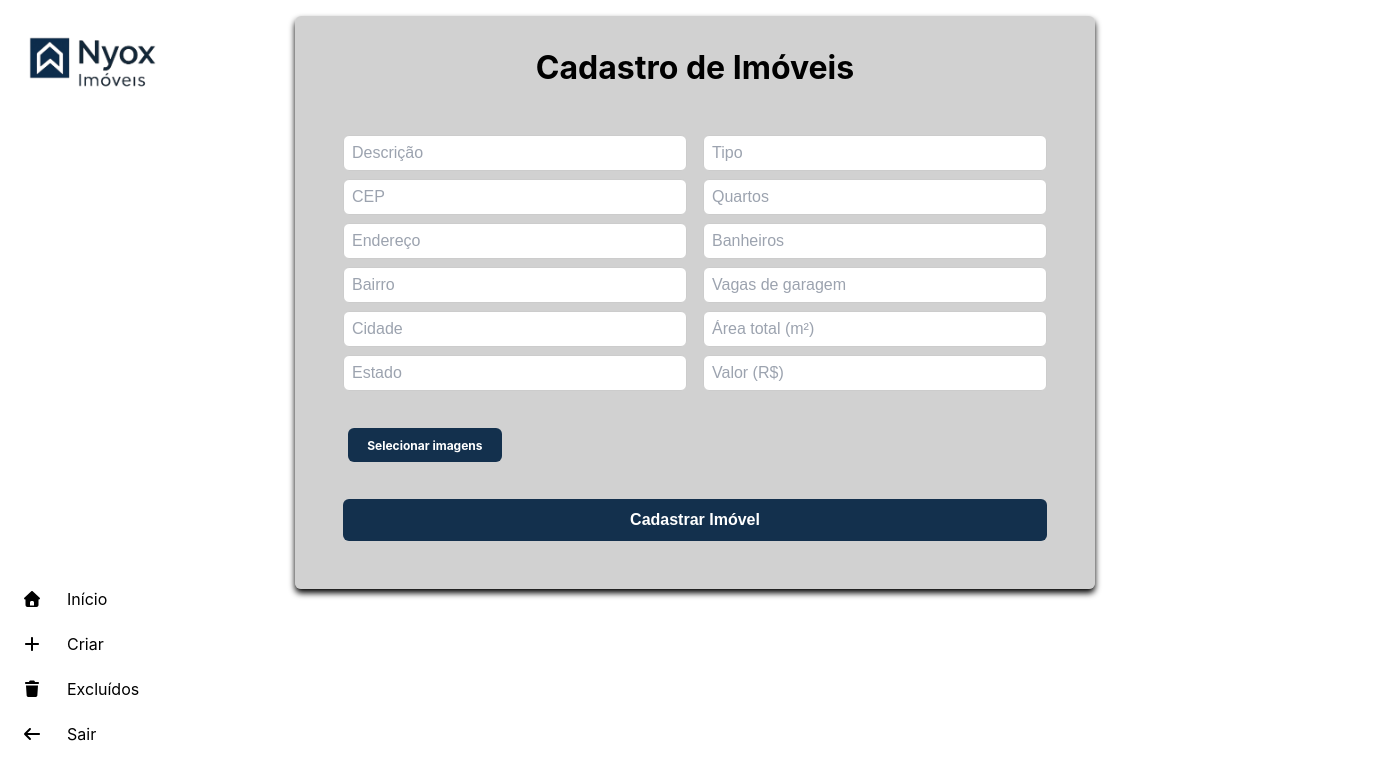
Test: Create Page › deve consultar CEP e preencher o endereço
Type "12345678" into the number field with placeholder "CEP" at (515, 197), box [343,179,687,215]
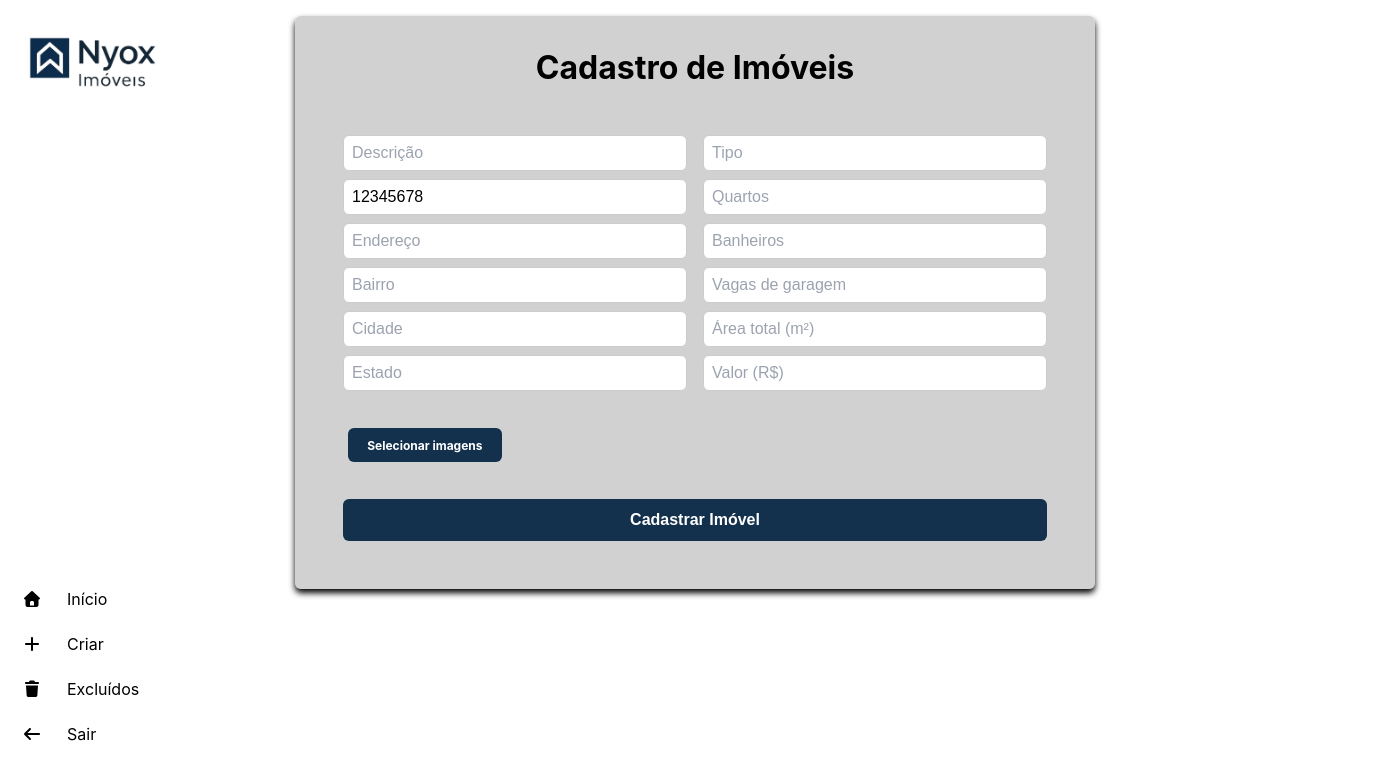
Leave the number field with placeholder "CEP", box [343,179,687,215]
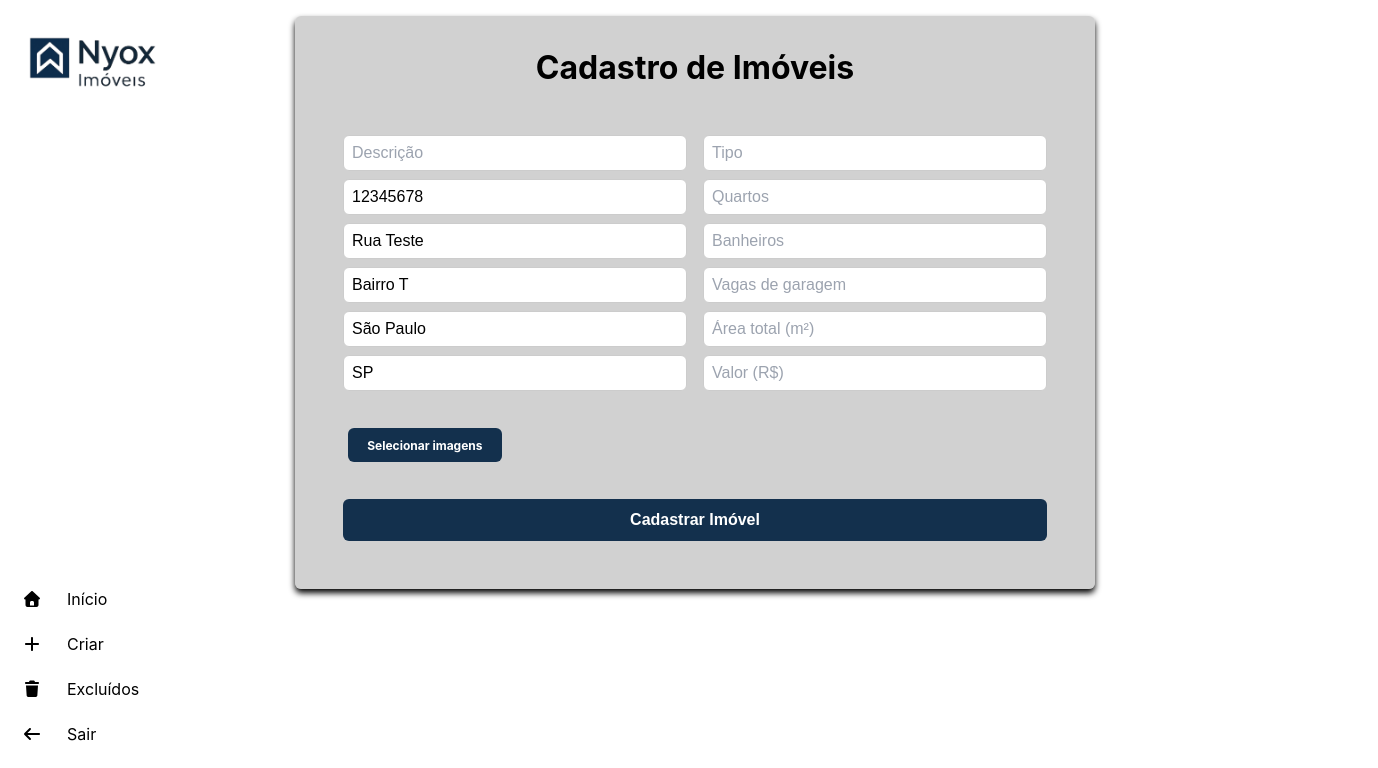
Check: the 1st field with placeholder "Endereço" holds "Rua Teste", box [343,223,687,259]
